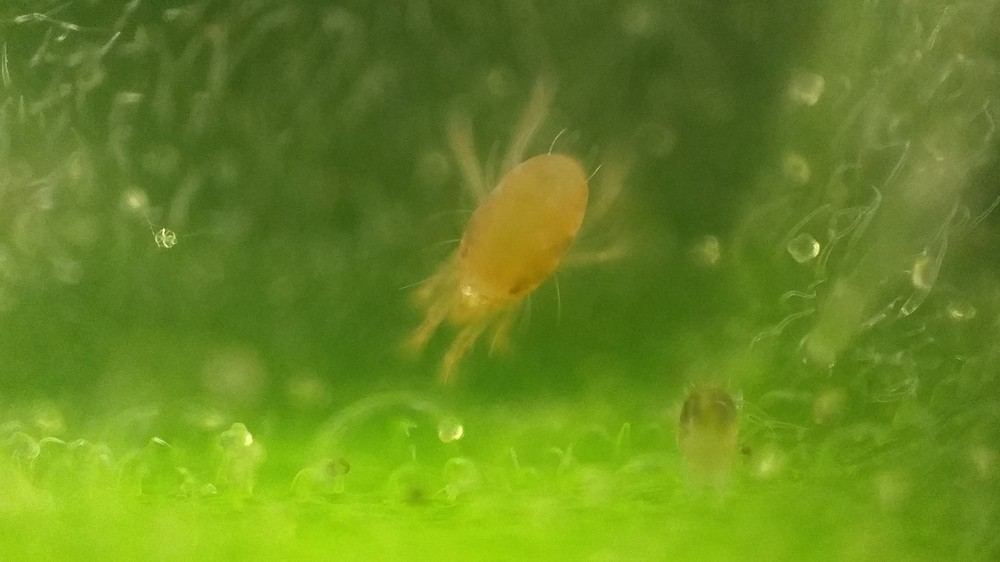Aracnido Rojo: (375, 67, 660, 382)
